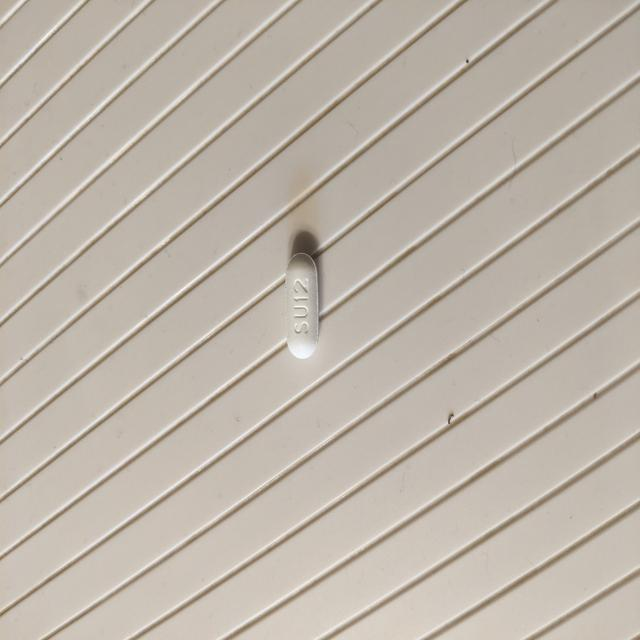non-organic waste: (284, 251, 321, 360)
